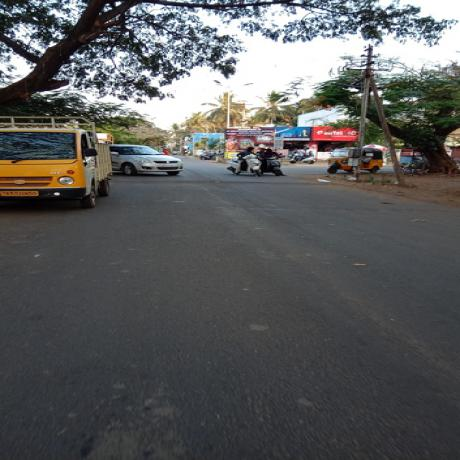Speed Bump: (104, 176, 328, 187)
